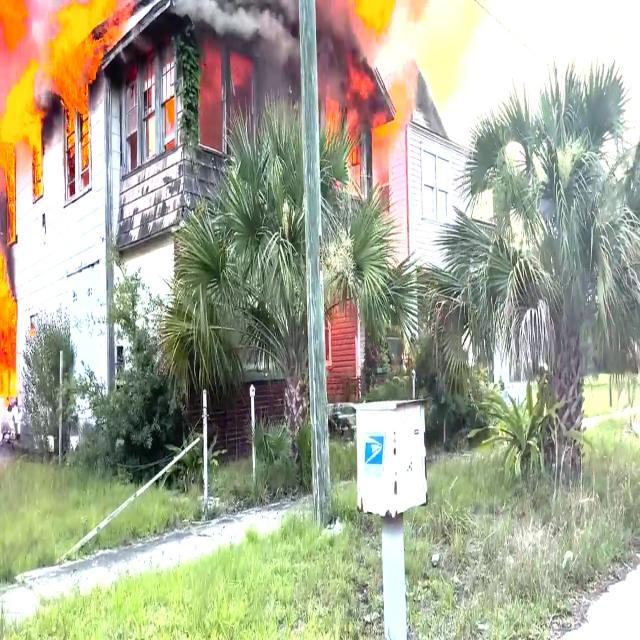Fire: (46, 11, 106, 168), (0, 60, 40, 212), (384, 81, 417, 156), (1, 262, 19, 394), (0, 0, 30, 64), (376, 0, 398, 65)
Smoke: (180, 0, 298, 67), (323, 14, 371, 115)
